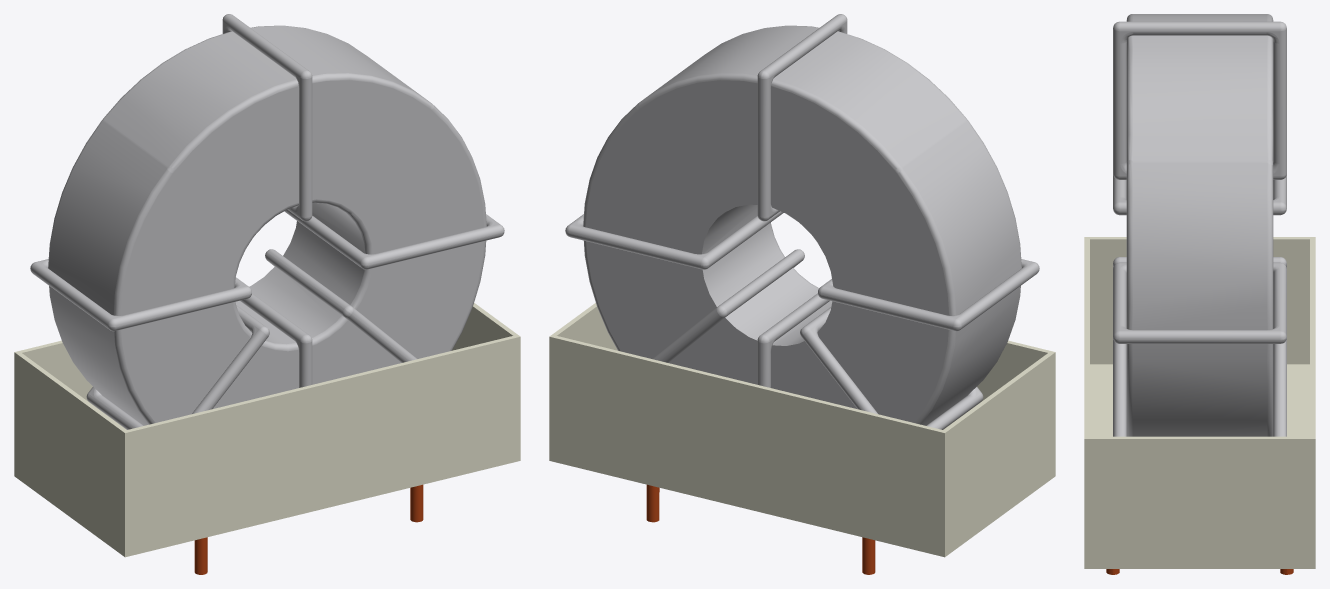
Rendered from kc-l_commonmode_toroid_vertical_l41.9mm_w20.3mm_px15.24mm_py22.86mm_bourns_8100.glb.
The picture shows the model from 3 angles, left to right: view 1: azimuth 30°, elevation 25°; view 2: azimuth 150°, elevation 25°; view 3: azimuth 270°, elevation 25°; orthographic projection. The views are drawn at different scales.
Visible parts, largest first — view 1: 0.5833333333333334_0.5833333333333334_0.5833333333333334_0.8, 0.75_0.75_0.6666666666666666_0, 0.4166666666666667_0.08333333333333333_0_0; view 2: 0.5833333333333334_0.5833333333333334_0.5833333333333334_0.8, 0.75_0.75_0.6666666666666666_0, 0.4166666666666667_0.08333333333333333_0_0; view 3: 0.5833333333333334_0.5833333333333334_0.5833333333333334_0.8, 0.75_0.75_0.6666666666666666_0.
Boxes of the visible parts, x1,y1,x2,y2 form: 0.5833333333333334_0.5833333333333334_0.5833333333333334_0.8: (30,14,504,429); 0.75_0.75_0.6666666666666666_0: (14,303,520,557); 0.4166666666666667_0.08333333333333333_0_0: (194,484,423,574); 0.5833333333333334_0.5833333333333334_0.5833333333333334_0.8: (565,14,1039,429); 0.75_0.75_0.6666666666666666_0: (549,303,1055,557); 0.4166666666666667_0.08333333333333333_0_0: (646,484,875,574); 0.5833333333333334_0.5833333333333334_0.5833333333333334_0.8: (1113,14,1286,436); 0.75_0.75_0.6666666666666666_0: (1084,237,1315,568).
Bounding box in the file's own units: 4.19 × 4.79 × 2.03.
